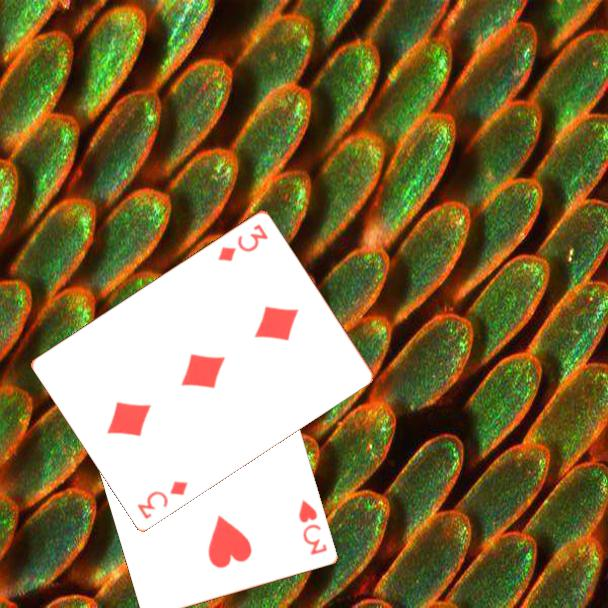d03: (134, 477, 191, 522), (214, 220, 271, 264)
h03: (295, 496, 330, 558)
